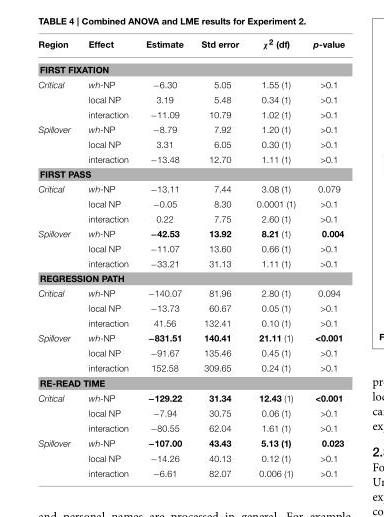table: (37, 37, 344, 477)
table column: (78, 37, 136, 477), (191, 37, 247, 477), (247, 37, 303, 477), (136, 37, 191, 477), (37, 37, 78, 477), (303, 37, 344, 477)
table column header: (37, 37, 344, 56)
table projected row header: (37, 56, 344, 77), (37, 166, 344, 181), (37, 375, 344, 390), (37, 271, 344, 285)
table row: (37, 56, 344, 77), (37, 37, 344, 56), (37, 136, 344, 152), (37, 77, 344, 92), (37, 92, 344, 107), (37, 107, 344, 122), (37, 166, 344, 181), (37, 181, 344, 196), (37, 196, 344, 211), (37, 211, 344, 226), (37, 226, 344, 241), (37, 241, 344, 256), (37, 256, 344, 271), (37, 285, 344, 300), (37, 300, 344, 315), (37, 315, 344, 330), (37, 330, 344, 345), (37, 345, 344, 360), (37, 360, 344, 375), (37, 375, 344, 390), (37, 390, 344, 405), (37, 405, 344, 420), (37, 420, 344, 435), (37, 435, 344, 450), (37, 450, 344, 465), (37, 122, 344, 136), (37, 152, 344, 166), (37, 271, 344, 285), (37, 465, 344, 477)
table spanning cell: (37, 77, 78, 122), (37, 181, 78, 226), (37, 226, 78, 271), (37, 285, 78, 330), (37, 330, 78, 375), (37, 390, 78, 435), (37, 122, 78, 166), (37, 435, 78, 477)
